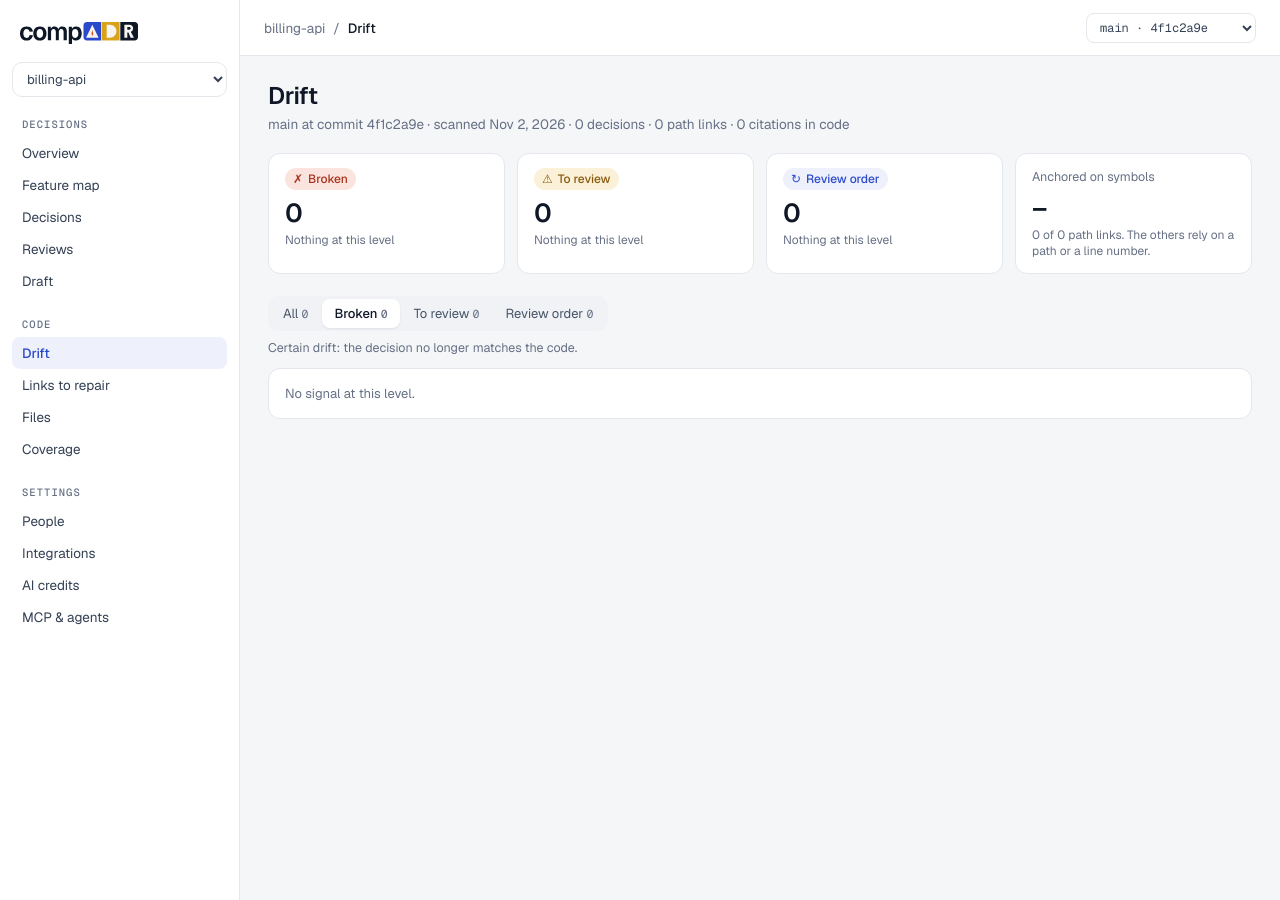
it: console shell › opens on the drift view and switches views
expect the text "main at commit 4f1c2a9e" is shown: met, box [268,115,850,133]
expect the heading "Drift" is shown: met, box [268,80,318,111]
Click the button "Reviews": click(120, 249) [12,233,227,265]
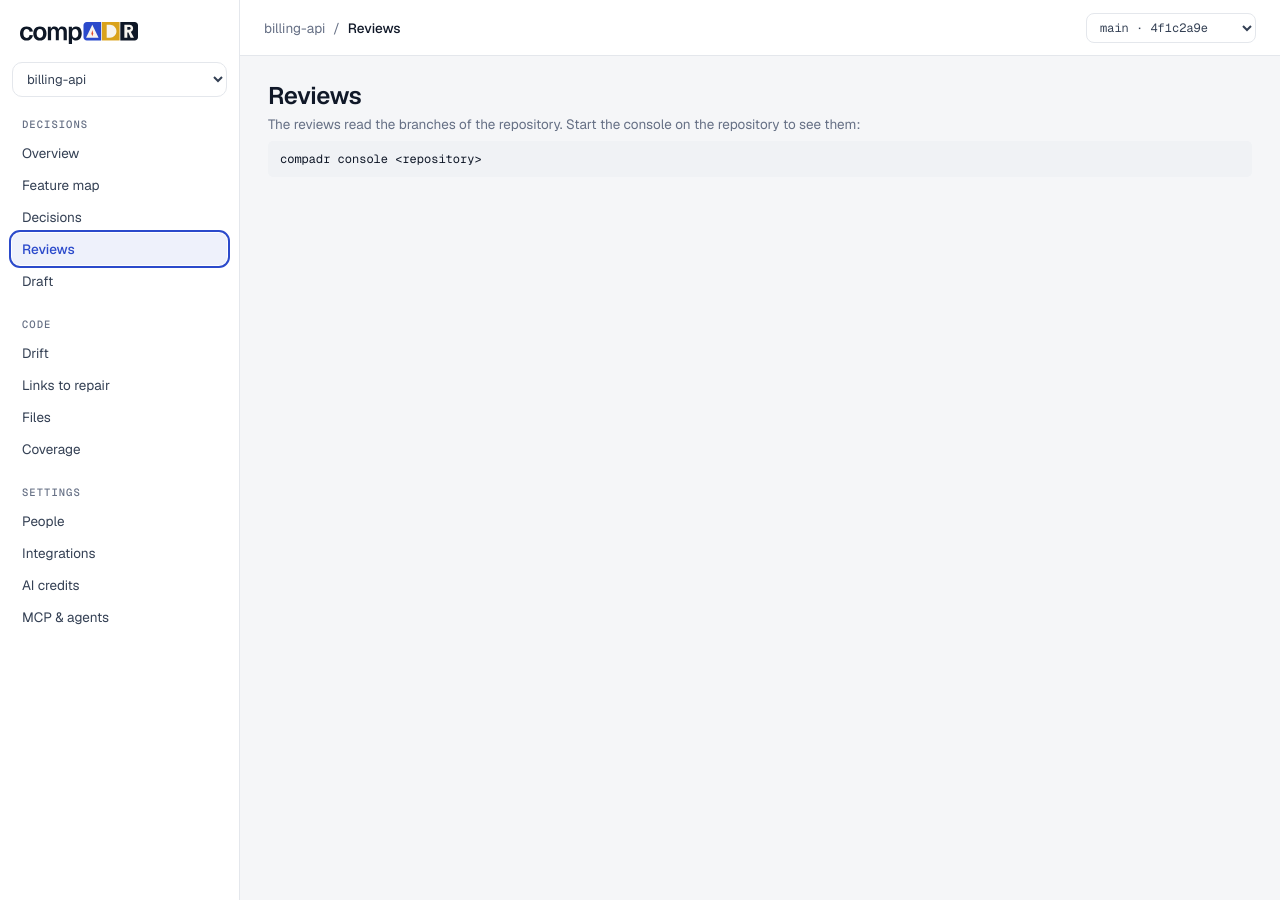
expect the heading "Reviews" is shown: met, box [268,80,361,111]
expect the element with class "breadcrumb" reads "billing-api / Reviews": met, box [264,18,400,36]
